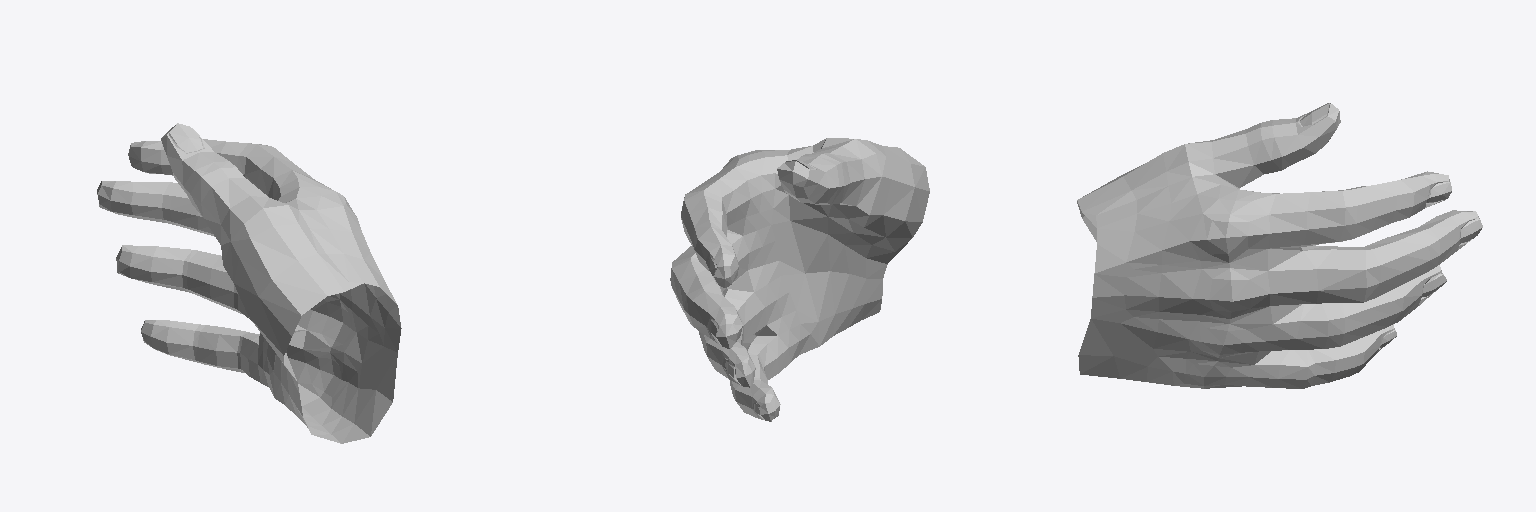
The model's file is r_hand.obj.
3 renders of one model, left to right at view 1: azimuth 30°, elevation 25°; view 2: azimuth 150°, elevation 25°; view 3: azimuth 270°, elevation 25°, orthographic.
Visible parts, largest first — view 1: zoey_color_bmp_003_zoey_color_bmp.003; view 2: zoey_color_bmp_003_zoey_color_bmp.003; view 3: zoey_color_bmp_003_zoey_color_bmp.003.
Part boxes in pixels (x1,y1,x2,y2): zoey_color_bmp_003_zoey_color_bmp.003: (97, 123, 401, 443); zoey_color_bmp_003_zoey_color_bmp.003: (670, 138, 929, 421); zoey_color_bmp_003_zoey_color_bmp.003: (1077, 103, 1482, 388).
Size of the model in its own units: 0.0481 by 0.0808 by 0.117.